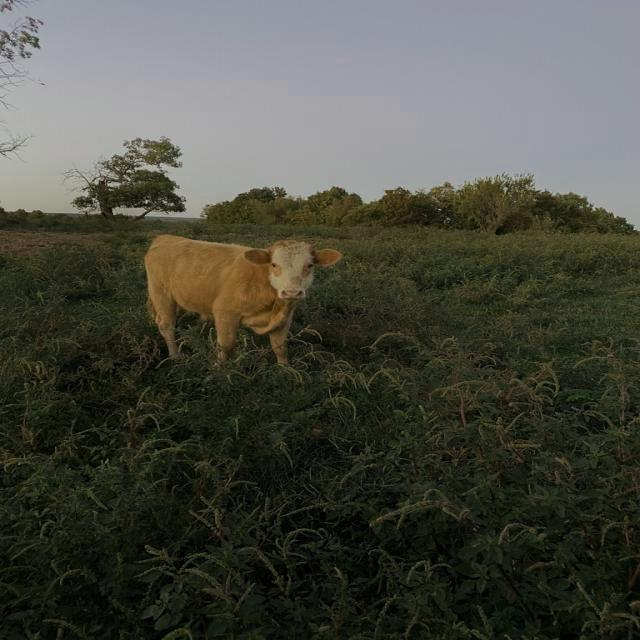cow: (145, 235, 341, 363)
